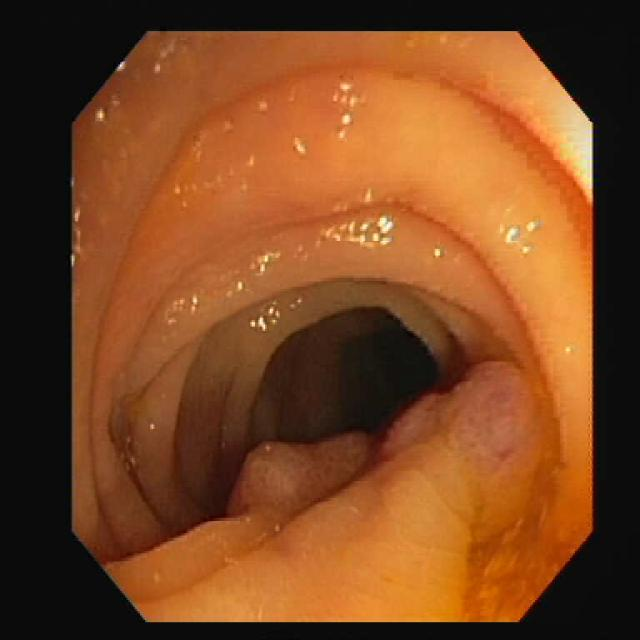tumor: (230, 362, 540, 533)
